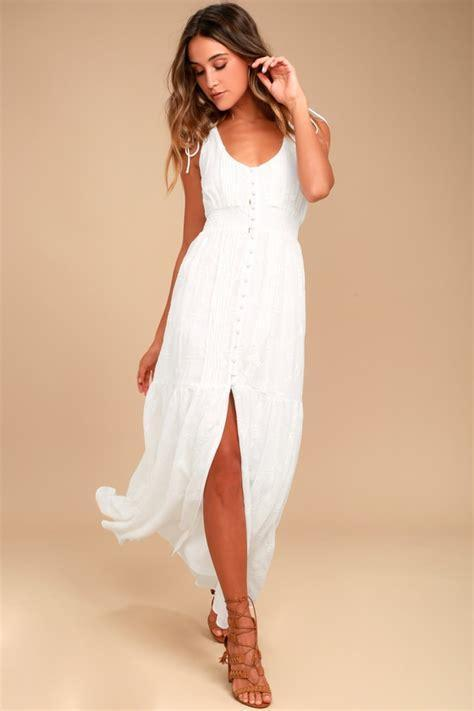dress: (95, 125, 311, 631)
